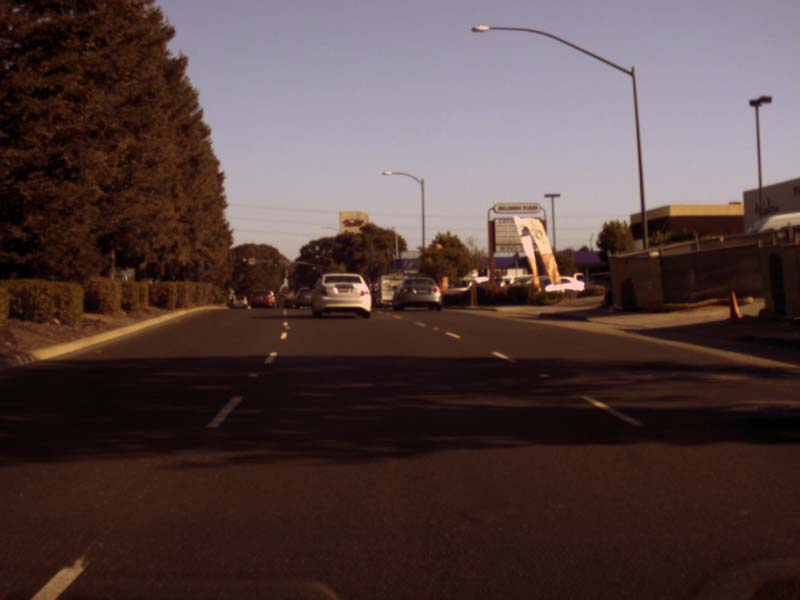Green: (272, 257, 278, 267)
Red: (242, 256, 246, 265)
